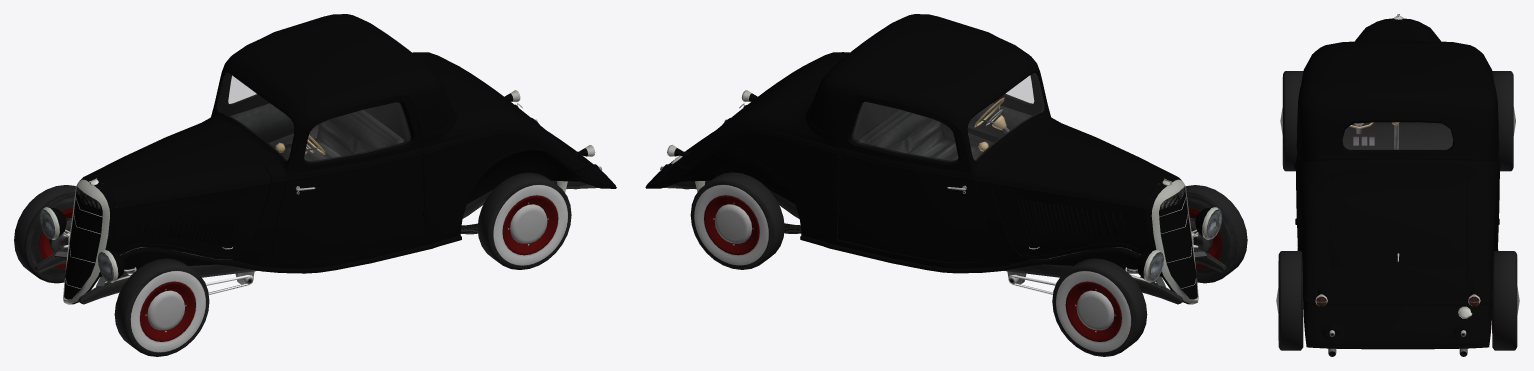
3 views of the same model, side by side, from view 1: azimuth 30°, elevation 25°; view 2: azimuth 150°, elevation 25°; view 3: azimuth 270°, elevation 25° (orthographic). The views are drawn at different scales.
Parts seen in each view (by area): view 1: body_fordcoupe_body_0, hood_fordcoupe_body_0, door_left_fordcoupe_body_0, wheel_01_tire_0, wheel_02_tire_0, door_left_fordcoupe_glass_0, interior_fordcoupe_interior_0, glass_fordcoupe_glass_0, grill_fordcoupe_grill_0, wheel_04_tire_0, wheel_01_rim_0, wheel_02_rim_0 (+7 smaller); view 2: body_fordcoupe_body_0, hood_fordcoupe_body_0, door_right_fordcoupe_body_0, wheel_04_tire_0, wheel_03_tire_0, door_right_fordcoupe_glass_0, interior_fordcoupe_interior_0, glass_fordcoupe_glass_0, grill_fordcoupe_grill_0, wheel_01_tire_0, wheel_04_rim_0, wheel_03_rim_0 (+8 smaller); view 3: body_fordcoupe_body_0, glass_fordcoupe_glass_0, interior_fordcoupe_interior_0, wheel_03_tire_0, wheel_02_tire_0, wheel_04_tire_0, wheel_01_tire_0, hood_fordcoupe_body_0, interior_fordcoupe_bottom_0.
Part boxes in pixels (box(x1,y1,x2,y2)): body_fordcoupe_body_0: box(97, 14, 616, 276); hood_fordcoupe_body_0: box(85, 123, 270, 259); door_left_fordcoupe_body_0: box(272, 96, 426, 263); wheel_01_tire_0: box(114, 258, 209, 356); wheel_02_tire_0: box(477, 172, 571, 269); door_left_fordcoupe_glass_0: box(305, 103, 410, 161); interior_fordcoupe_interior_0: box(219, 102, 409, 160); glass_fordcoupe_glass_0: box(218, 73, 293, 160); grill_fordcoupe_grill_0: box(64, 186, 102, 299); wheel_04_tire_0: box(14, 185, 75, 283); wheel_01_rim_0: box(140, 281, 195, 341); wheel_02_rim_0: box(502, 195, 558, 255); body_fordcoupe_body_0: box(645, 14, 1163, 276); hood_fordcoupe_body_0: box(991, 123, 1176, 259); door_right_fordcoupe_body_0: box(836, 96, 989, 262); wheel_04_tire_0: box(1052, 258, 1147, 356); wheel_03_tire_0: box(690, 172, 784, 269); door_right_fordcoupe_glass_0: box(852, 102, 957, 161); interior_fordcoupe_interior_0: box(853, 102, 1042, 160); glass_fordcoupe_glass_0: box(968, 73, 1043, 160); grill_fordcoupe_grill_0: box(1159, 186, 1197, 299); wheel_01_tire_0: box(1186, 185, 1247, 283); wheel_04_rim_0: box(1065, 281, 1121, 341); wheel_03_rim_0: box(704, 195, 759, 255); body_fordcoupe_body_0: box(1295, 20, 1500, 349); glass_fordcoupe_glass_0: box(1343, 123, 1452, 149); interior_fordcoupe_interior_0: box(1342, 122, 1453, 149); wheel_03_tire_0: box(1492, 251, 1517, 350); wheel_02_tire_0: box(1278, 251, 1303, 350); wheel_04_tire_0: box(1492, 71, 1513, 171); wheel_01_tire_0: box(1282, 71, 1303, 171); hood_fordcoupe_body_0: box(1355, 20, 1440, 41); interior_fordcoupe_bottom_0: box(1349, 122, 1399, 149).
Bounding box in the file's own units: 165 × 64.22 × 65.74.
Materials: 9 (7 with a texture image).
